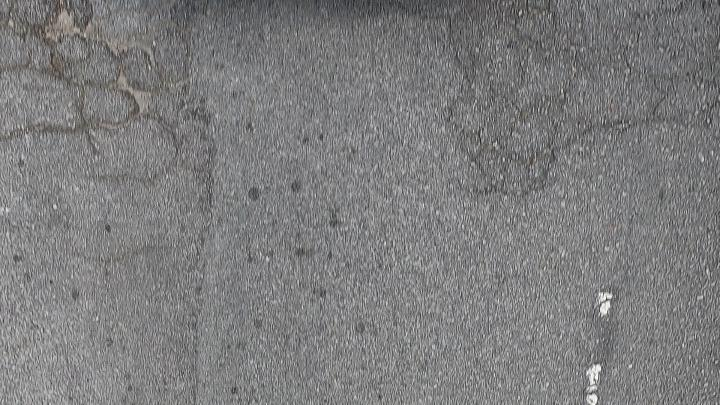Crack: (326, 0, 720, 186), (0, 0, 194, 183), (0, 0, 187, 177), (340, 0, 601, 108), (566, 73, 719, 132), (448, 114, 556, 184), (0, 116, 72, 161)
